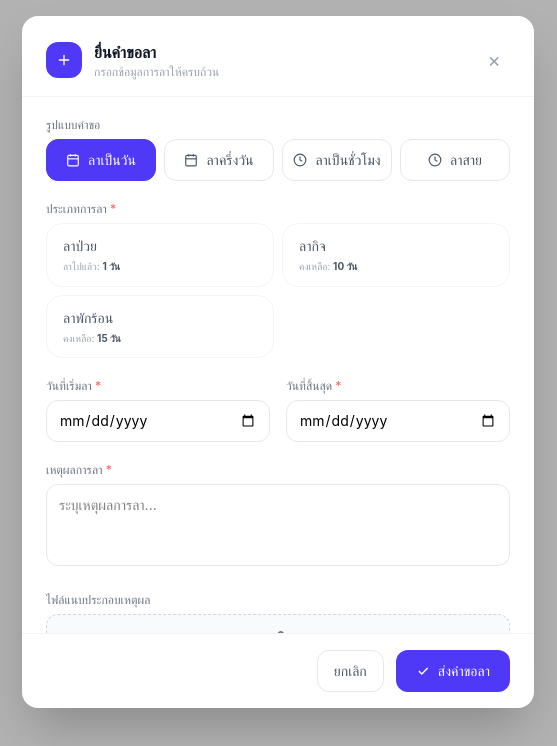
Test: LeaveRequestModal — เลือกประเภทการลา › เลือกประเภทการลาแล้ว error หาย
Click the button "ส่งคำขอลา" at point(453, 671), box [396,650,510,692]
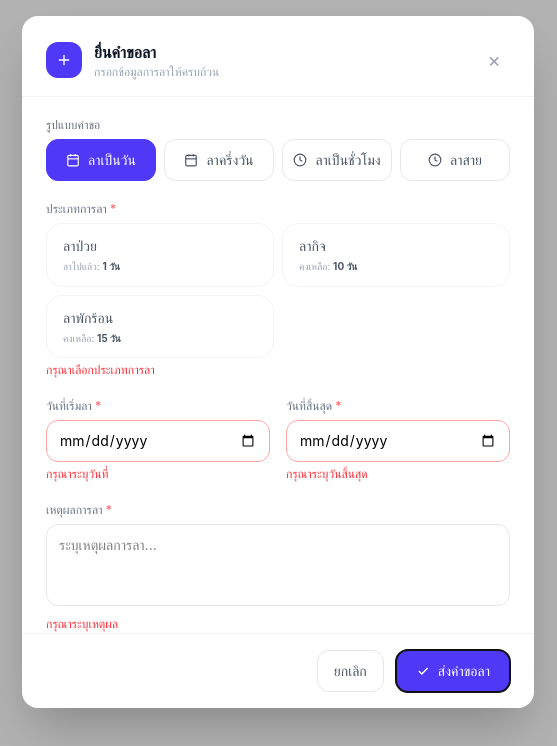
Check: the text "กรุณาเลือกประเภทการลา" is shown, box [46,362,155,377]
Click the text "ลาป่วย" at point(80, 246), box [63,236,97,256]
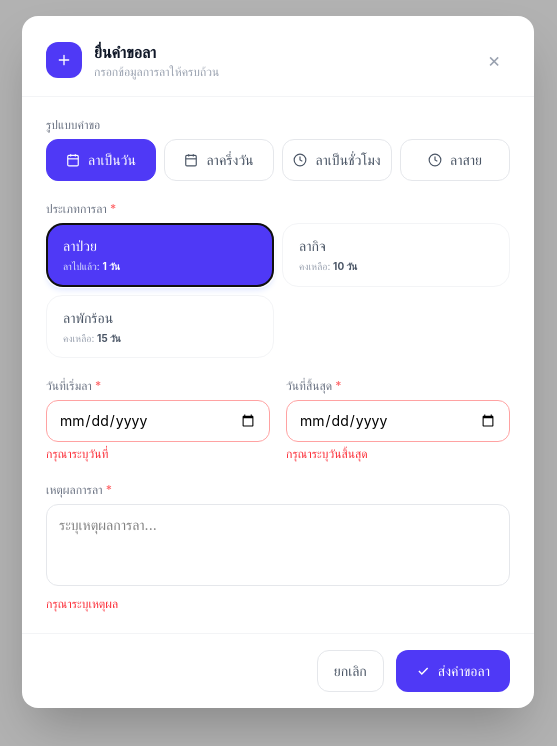
Check: the text "กรุณาเลือกประเภทการลา" is gone
